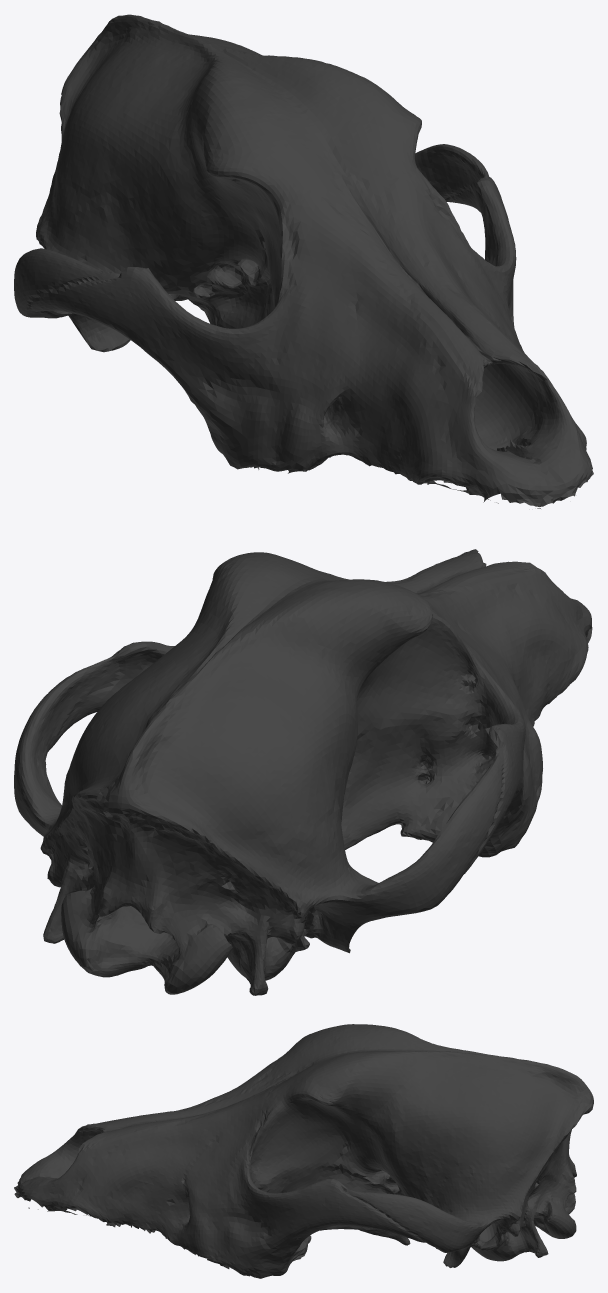
The picture shows the model from 3 angles, top to bottom: view 1: azimuth 30°, elevation 25°; view 2: azimuth 150°, elevation 25°; view 3: azimuth 270°, elevation 25°; orthographic projection. The views are drawn at different scales.
Visible parts, largest first — view 1: Group64810; view 2: Group64810; view 3: Group64810.
Boxes of the visible parts, x1=… form: Group64810: x1=14, y1=14, x2=593, y2=508; Group64810: x1=14, y1=549, x2=592, y2=995; Group64810: x1=14, y1=1024, x2=593, y2=1278.
Size of the model in its own units: 1.36 by 0.9067 by 2.4.
1 material, 1 textured.
